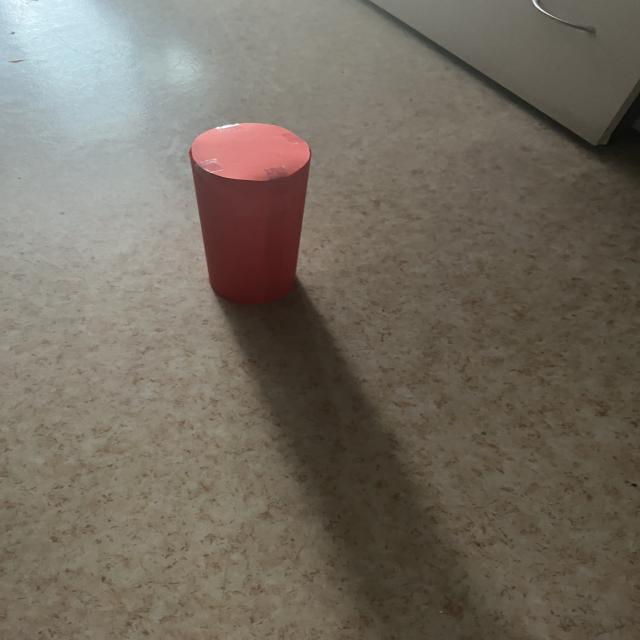przeszkoda: (189, 123, 311, 304)
